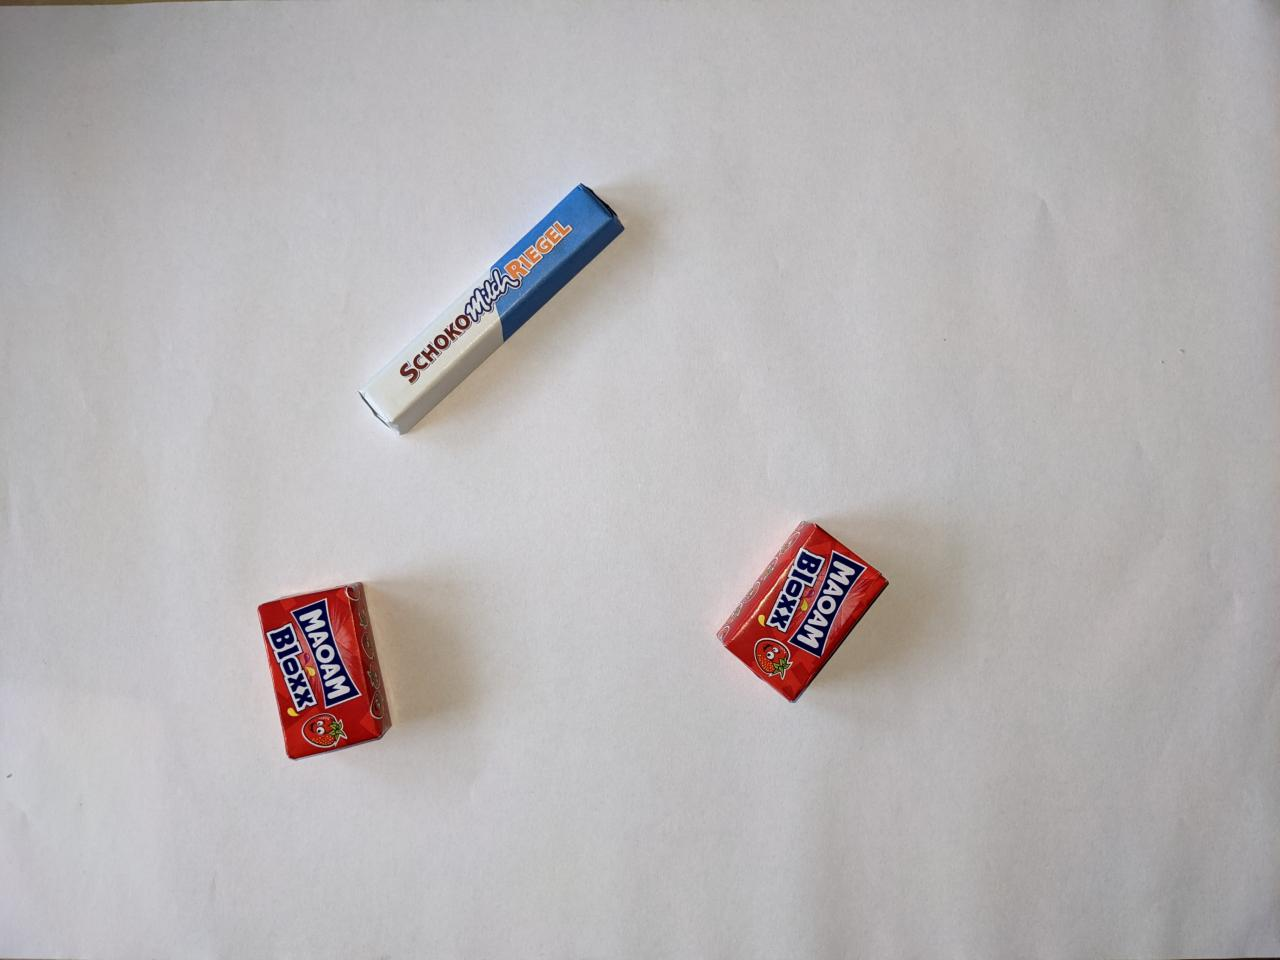MAOAM: (706, 511, 895, 719), (251, 572, 404, 766)
Schokoriegel: (346, 173, 633, 443)
